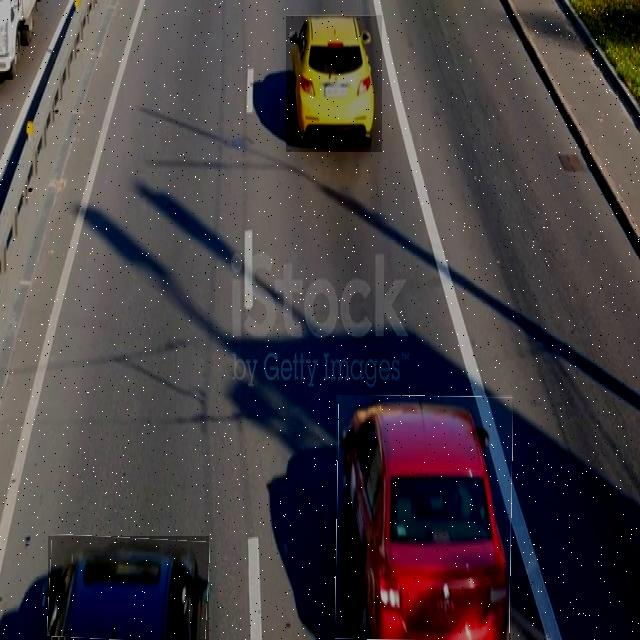Car: (336, 395, 512, 640), (48, 536, 209, 640), (286, 15, 382, 152)
